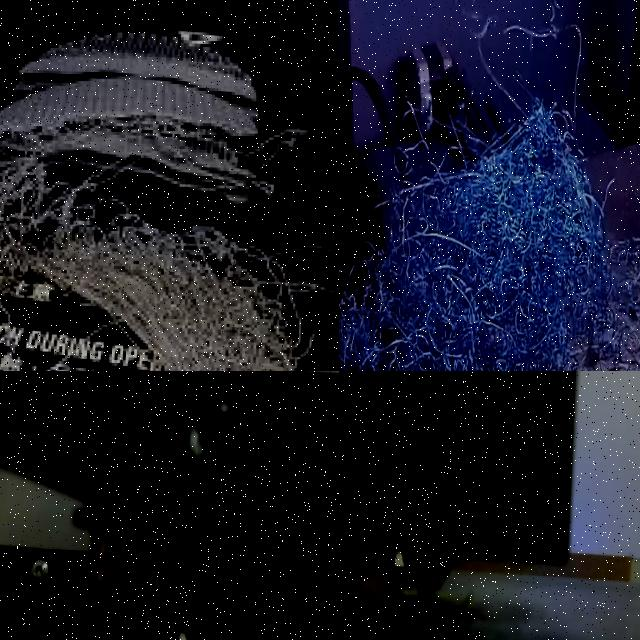spaghetti: (339, 0, 640, 371), (0, 127, 339, 371), (364, 559, 436, 608)
